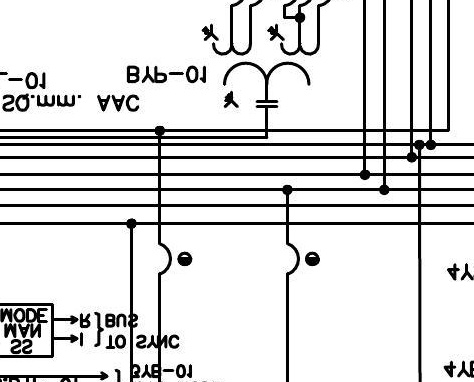115_cvt_3p: (201, 23, 321, 108)
